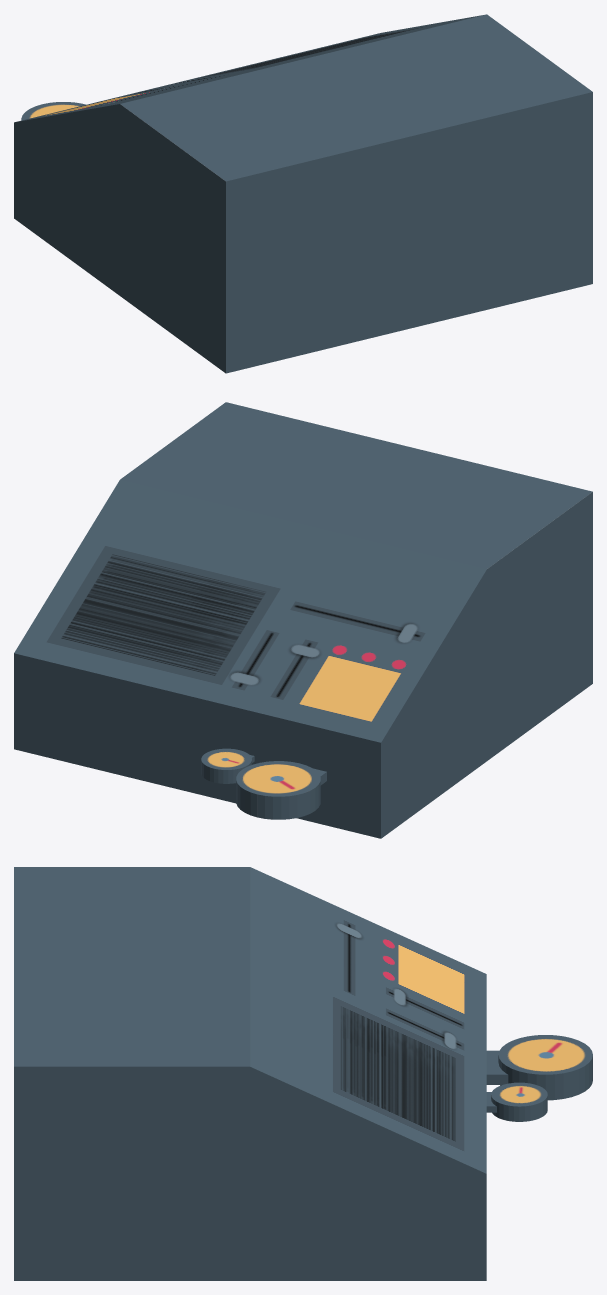
File: machine_1_model.fbx
The picture shows the model from 3 angles, top to bottom: view 1: azimuth 30°, elevation 25°; view 2: azimuth 150°, elevation 25°; view 3: azimuth 270°, elevation 25°; orthographic projection. The views are drawn at different scales.
Parts seen in each view (by area): view 1: Cube; view 2: Cube; view 3: Cube.
Part boxes in pixels (box(x1,y1,x2,y2)): Cube: box(14, 14, 592, 373); Cube: box(14, 402, 592, 838); Cube: box(14, 867, 592, 1280).
Bounding box in the file's own units: 2 × 1 × 2.45.
